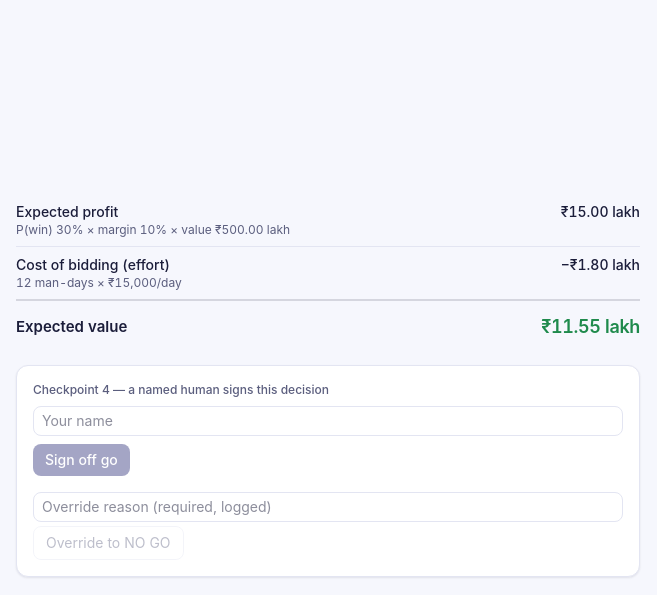
Test: DecisionRoom › disables override until a reason is written
Step 1. Type "Bid Head" into the field with placeholder "Your name" → coordinates (328, 421), box top-left (33, 406), bottom-right (623, 436)
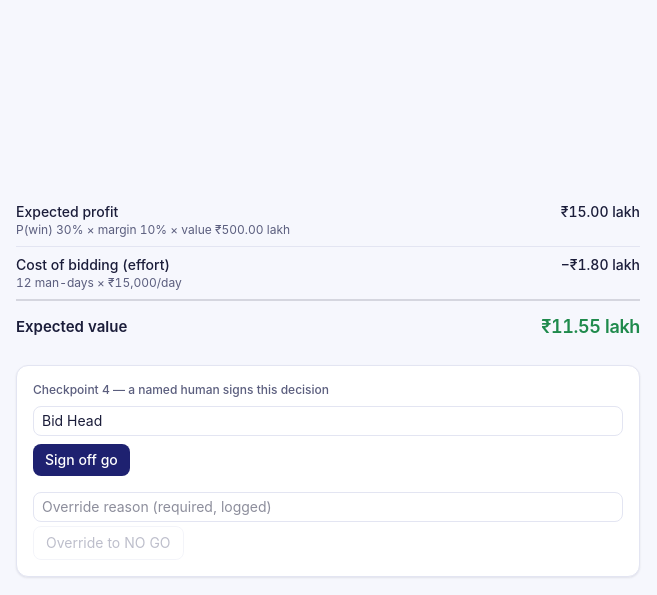
expect the button with test id "override-button" is disabled: met, box top-left (33, 526), bottom-right (184, 560)
Step 2. Type "strategic conflict" into the field with placeholder "Override reason (required, logged)" → coordinates (328, 507), box top-left (33, 492), bottom-right (623, 522)
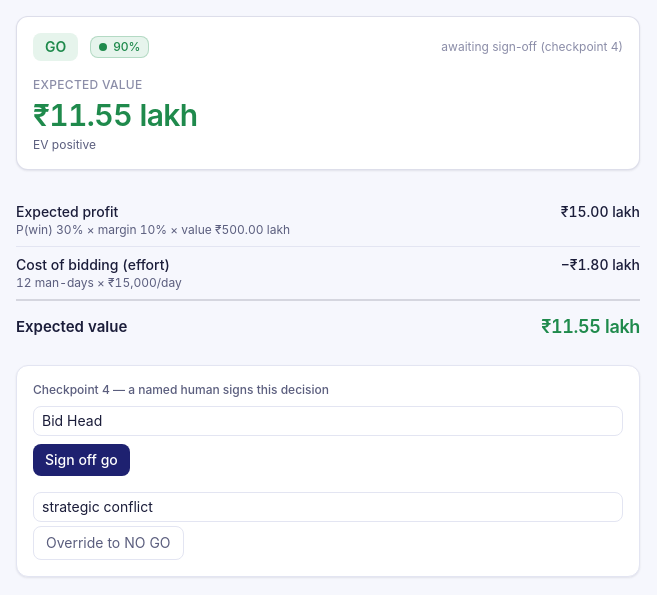
expect the button with test id "override-button" is enabled: met, box top-left (33, 526), bottom-right (184, 560)
